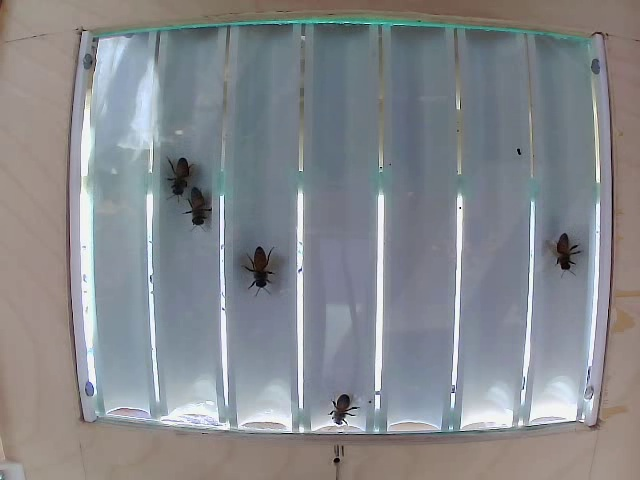bee: (312, 381, 373, 434), (240, 250, 279, 303), (550, 223, 581, 287), (163, 151, 204, 197), (180, 204, 225, 242)
